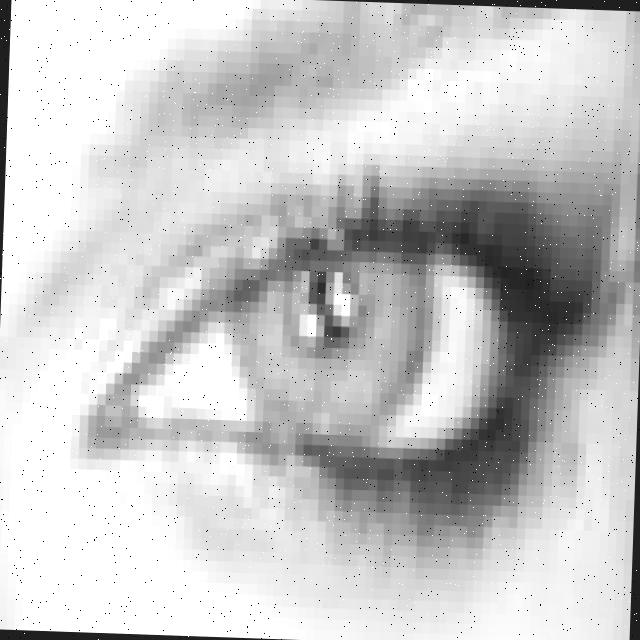Normal: (60, 180, 598, 497)
